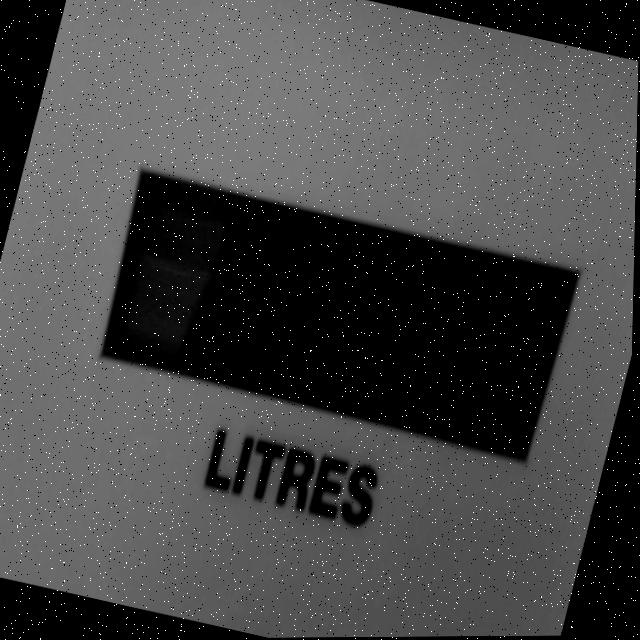.: (359, 356, 389, 400)
0: (376, 239, 482, 414)
4: (451, 256, 550, 427)
6: (309, 217, 409, 398), (241, 208, 343, 372)
